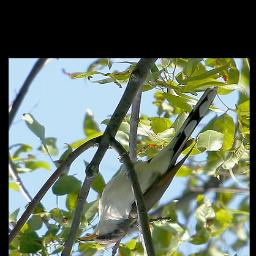Cuckoo: (76, 85, 220, 246)
